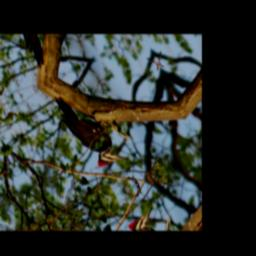Woodpecker: (49, 78, 132, 181)
